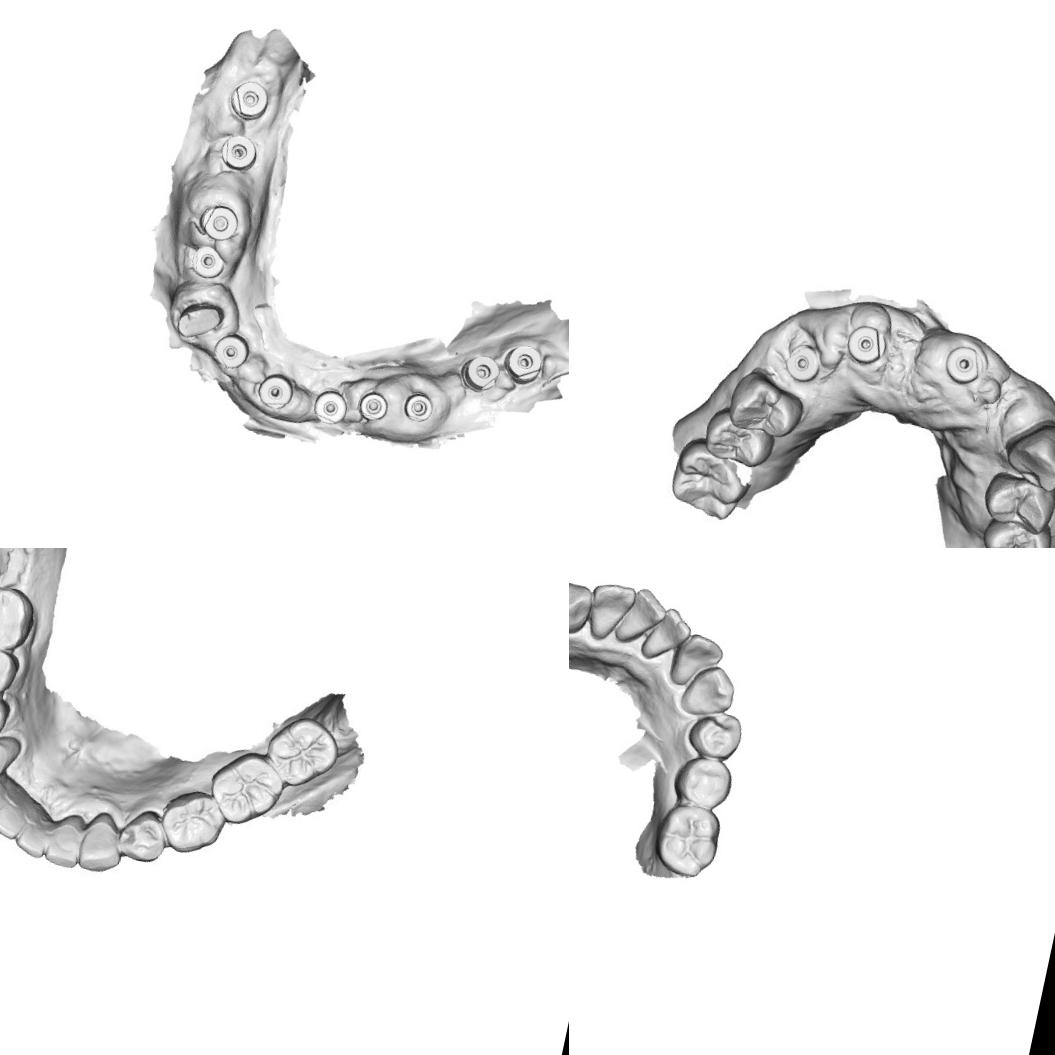canine: (676, 658, 740, 723), (75, 812, 130, 879), (1005, 417, 1055, 489), (569, 575, 596, 638), (0, 726, 19, 792)
crown: (164, 292, 238, 352)
implant: (498, 337, 552, 395), (454, 344, 506, 399), (222, 72, 272, 125), (194, 196, 246, 246), (838, 318, 888, 368), (214, 128, 263, 179), (207, 326, 255, 375), (938, 338, 986, 387), (308, 384, 356, 432), (252, 368, 300, 416), (187, 238, 234, 286), (781, 337, 826, 386), (398, 384, 442, 427), (353, 386, 395, 428)
incisor: (612, 582, 671, 650), (668, 630, 728, 695), (638, 602, 696, 668), (582, 578, 638, 646), (40, 814, 92, 873), (8, 808, 58, 863), (0, 794, 27, 846), (0, 775, 12, 822)
molar: (202, 743, 289, 834), (256, 708, 346, 795), (668, 442, 758, 526), (649, 798, 726, 882), (0, 579, 45, 659)
premolar: (151, 784, 234, 864), (978, 466, 1055, 535), (698, 408, 781, 472), (728, 374, 803, 440), (669, 752, 737, 812), (683, 706, 746, 765), (113, 807, 173, 868), (974, 514, 1055, 548), (0, 643, 24, 701), (0, 687, 17, 747)
